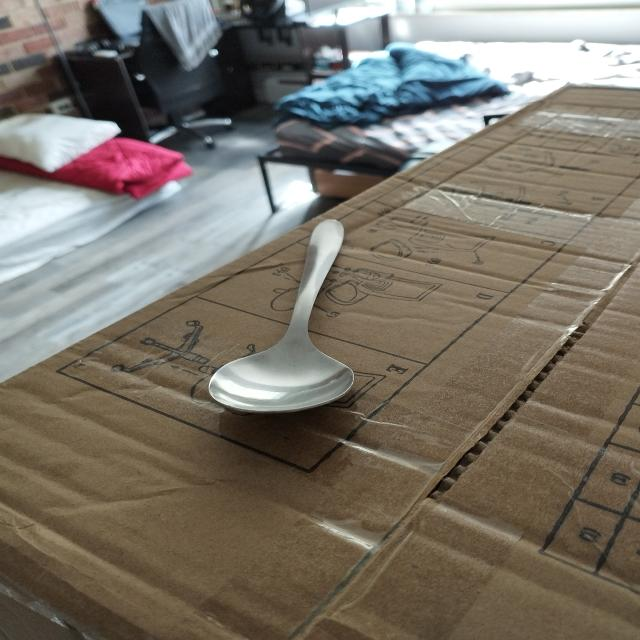Spoon: (185, 213, 378, 421)
